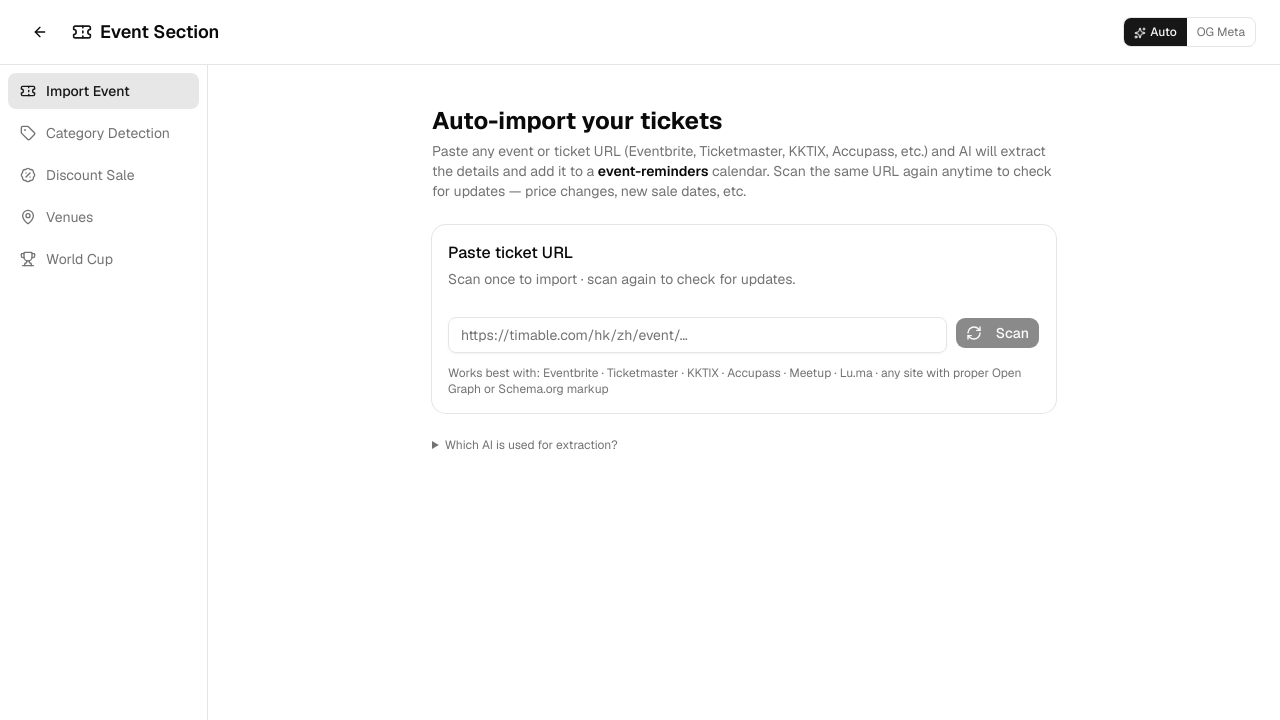
it: TicketSection — venue seat-map hint › shows the seat map badge under the Venue textbox in the editable review card
Type "https://example.com/event/1" into the field with placeholder "https://timable.com/hk/zh/event/…". click: (697,335)
box: [448,317,947,353]
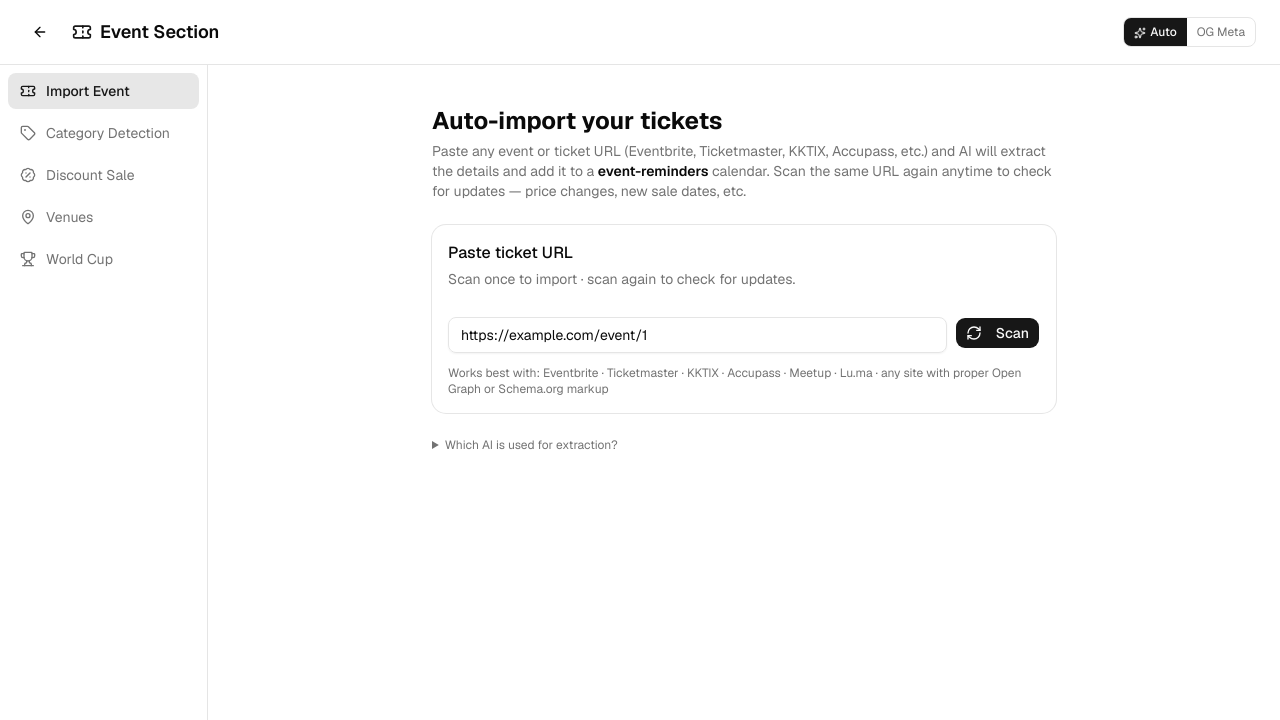
Click the button "Scan". click: (997,333)
box: [955,317,1040,349]
(page scrolled)
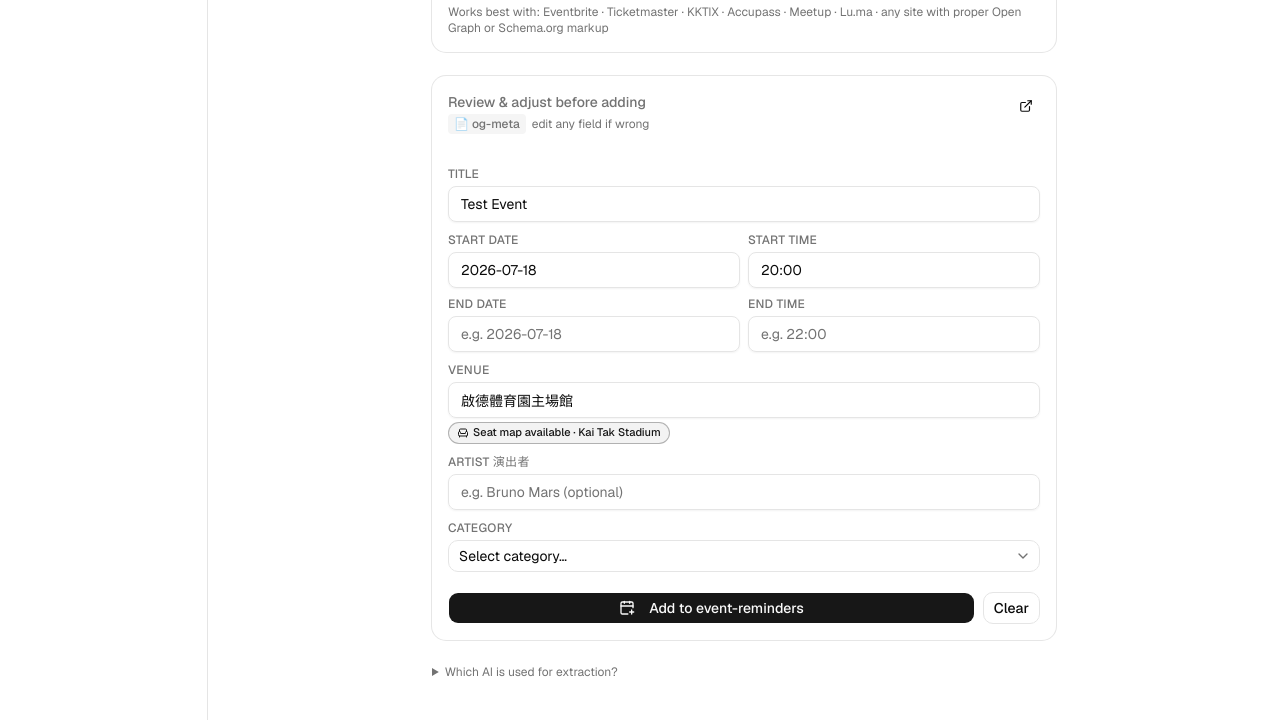
Check: the text "Review & adjust before adding" is shown, box [448,92,650,112]
Check: the button "Seat map available · Kai Tak Stadium" is shown, box [448,422,670,444]
